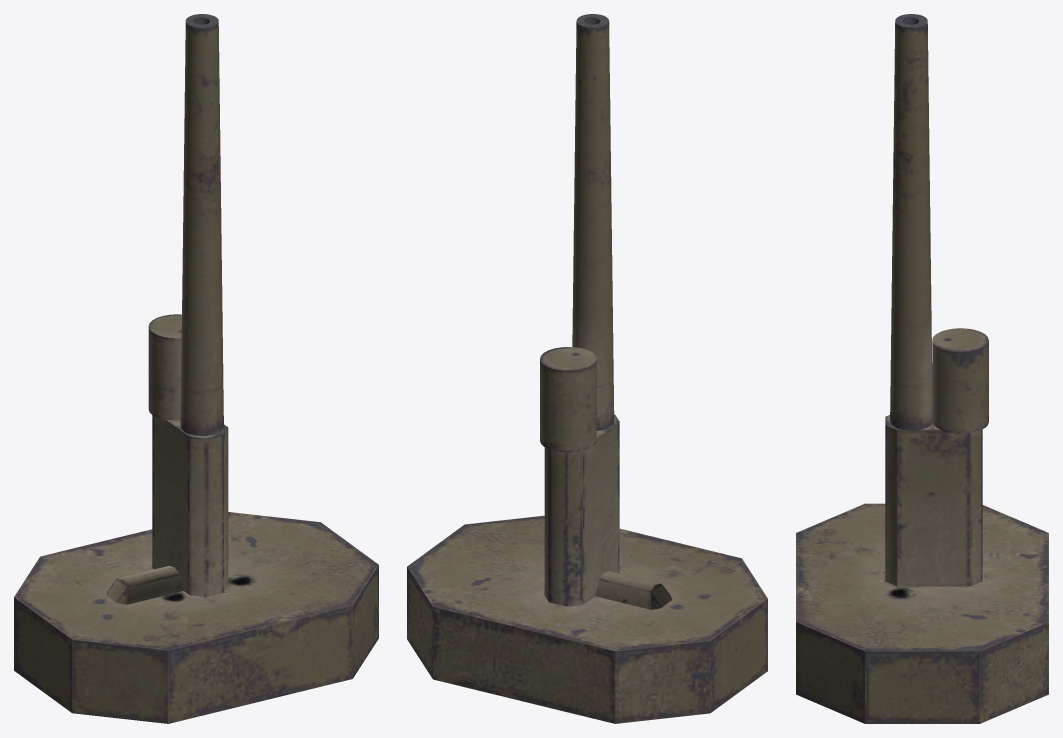
The model's file is Gun_02.glb.
3 views of the same model, side by side, from view 1: azimuth 30°, elevation 25°; view 2: azimuth 150°, elevation 25°; view 3: azimuth 270°, elevation 25° (orthographic).
Parts seen in each view (by area): view 1: set_0_group_0; view 2: set_0_group_0; view 3: set_0_group_0.
Part boxes in pixels (bbox=[...]): set_0_group_0: bbox=[14, 14, 378, 723]; set_0_group_0: bbox=[407, 14, 767, 723]; set_0_group_0: bbox=[796, 14, 1048, 723].
Size of the model in its own units: 0.5595 by 1.11 by 0.4049.
Materials: 1 (1 with a texture image).
